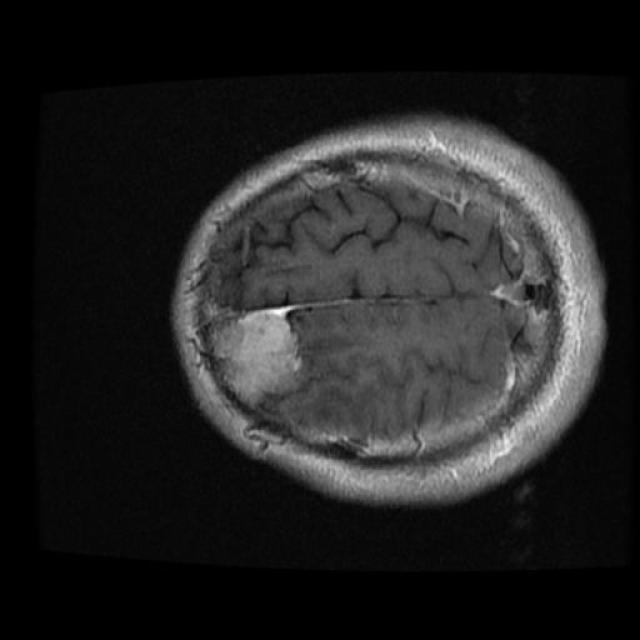Meningioma: (211, 306, 302, 406)
